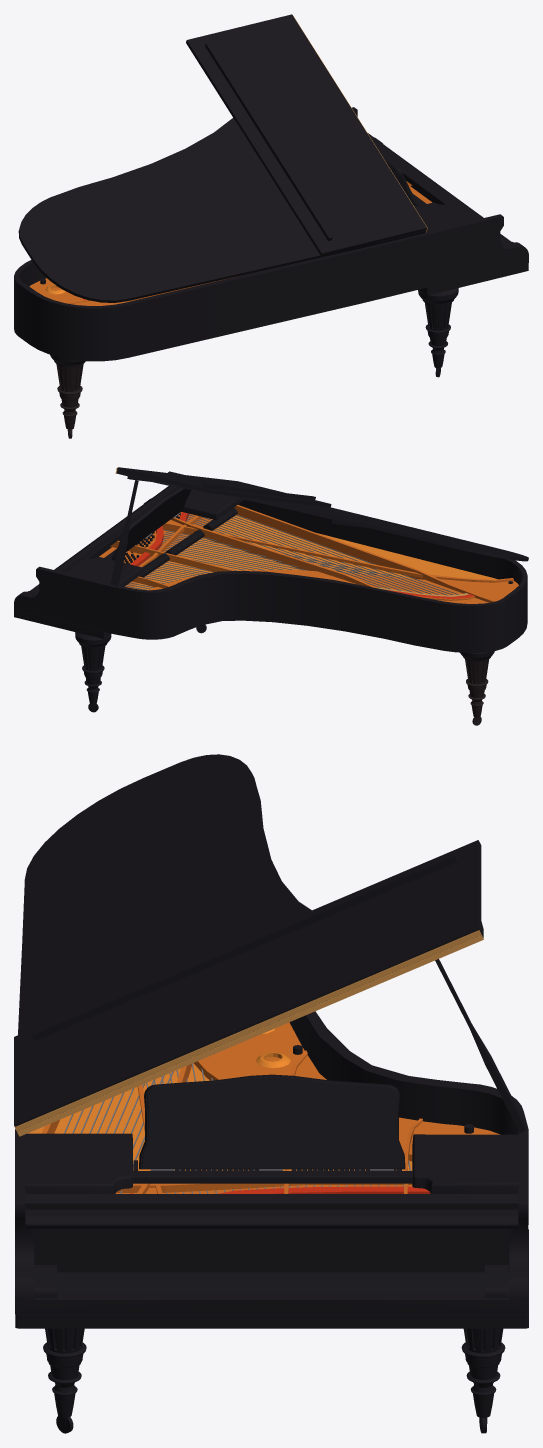
The model's file is GrandpianoWithoutKeys.fbx.
3 renders of one model, top to bottom at view 1: azimuth 30°, elevation 25°; view 2: azimuth 150°, elevation 25°; view 3: azimuth 270°, elevation 25°, orthographic. The views are drawn at different scales.
Visible parts, largest first — view 1: Cube.011, Cube.003, Cylinder.019, Cube.009, Cube, Cylinder.009, Cube.010, Cube.002, Cube.014; view 2: Cube.003, Cube.016, Cube.011, Cube.026, Cube.002, Cube.009, Cube.006, Cube.017, Cube.001, Cube.012, Cylinder.019, Cube.055 (+9 smaller); view 3: Cube.011, Cube.003, Cube.001, Cube.009, Cube, Cube.014, Cube.010, Cube.021, Cube.002, Cube.013, Cube.016, Cylinder.009 (+7 smaller).
Boxes of the visible parts, x1,y1,x2,y2 form: Cube.011: (18,14,426,302); Cube.003: (14,107,528,361); Cylinder.019: (56,364,83,438); Cube.009: (414,202,471,231); Cube: (368,133,483,219); Cylinder.009: (424,302,451,368); Cube.010: (419,263,528,295); Cube.002: (29,186,432,305); Cube.014: (377,148,475,220); Cube.003: (14,471,527,652); Cube.016: (132,515,497,589); Cube.011: (116,467,528,561); Cube.026: (125,514,458,595); Cube.002: (99,512,518,603); Cube.009: (65,490,243,586); Cube.006: (234,505,496,602); Cube.017: (171,517,378,588); Cube.001: (111,488,191,560); Cube.012: (162,522,513,582); Cylinder.019: (465,659,488,725); Cube.055: (139,507,237,577); Cube.011: (14,754,483,1133); Cube.003: (15,951,528,1314); Cube.001: (139,1074,405,1169); Cube.009: (25,1133,518,1193); Cube: (26,1209,518,1228); Cube.014: (25,1194,518,1209); Cube.010: (15,1229,528,1328); Cube.021: (14,930,483,1136); Cube.002: (115,1022,499,1193); Cube.013: (132,1171,412,1183); Cube.016: (27,1063,412,1170); Cylinder.009: (45,1328,84,1417).
Bounding box in the file's own units: 680 × 398 × 385.
